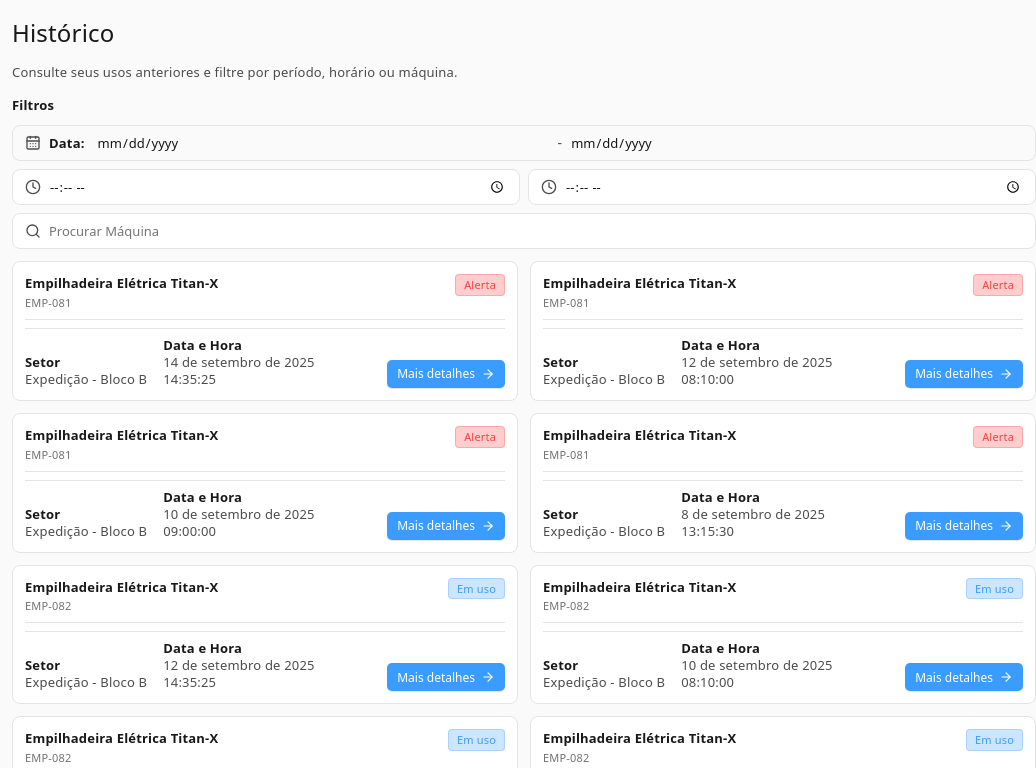
Test: EmployeeHistoryPage › inverted period shows the empty message
The image size is (1036, 768).
Type "2025-09-14" into the date field named "Data inicial".
click(323, 143); type("2025-09-14")  # box [97,126,550,160]
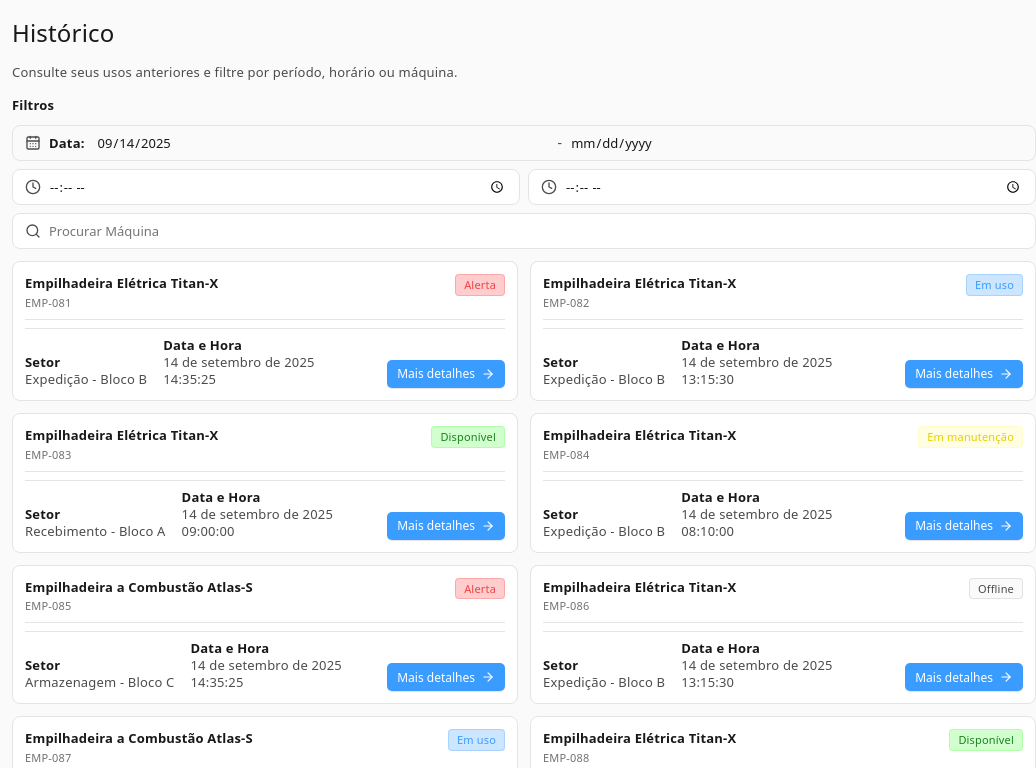
Type "2025-09-08" into the date field named "Data final".
click(797, 143); type("2025-09-08")  # box [570,126,1023,160]
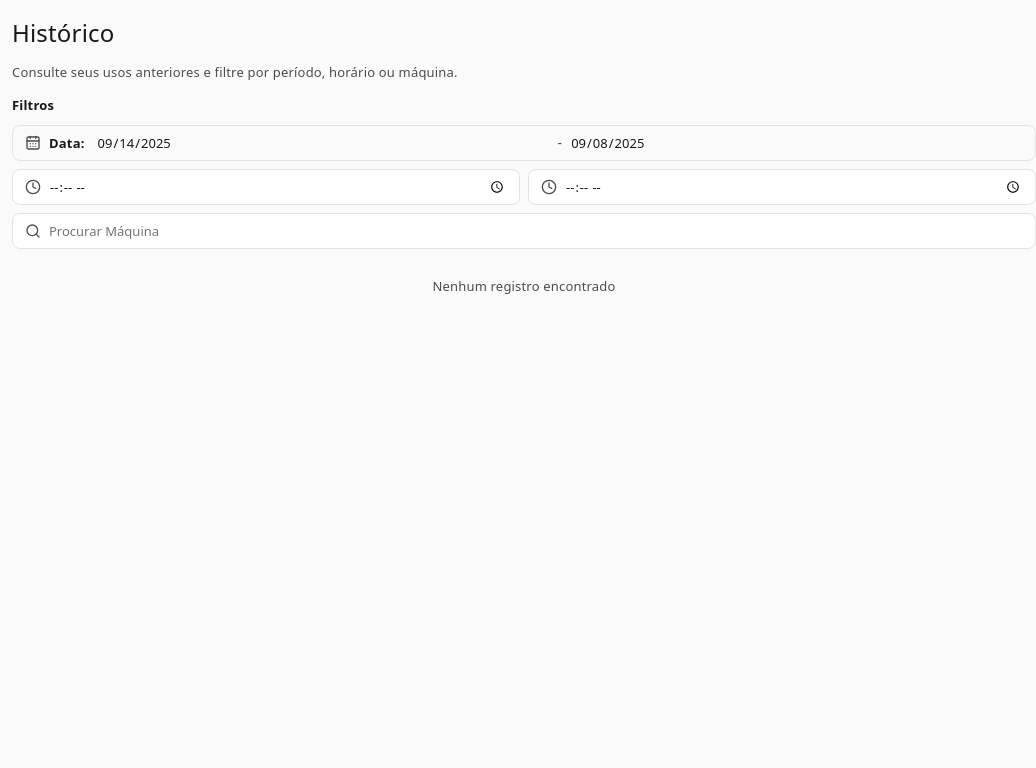
Now the text "Nenhum registro encontrado" is shown, box [432,277,616,295]
